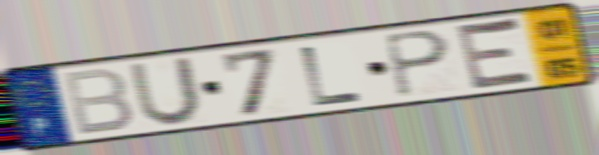7: (219, 45, 282, 119)
B: (59, 66, 137, 138)
E: (454, 15, 540, 94)
L: (298, 42, 367, 109)
P: (380, 28, 454, 100)
U: (126, 54, 205, 128)
